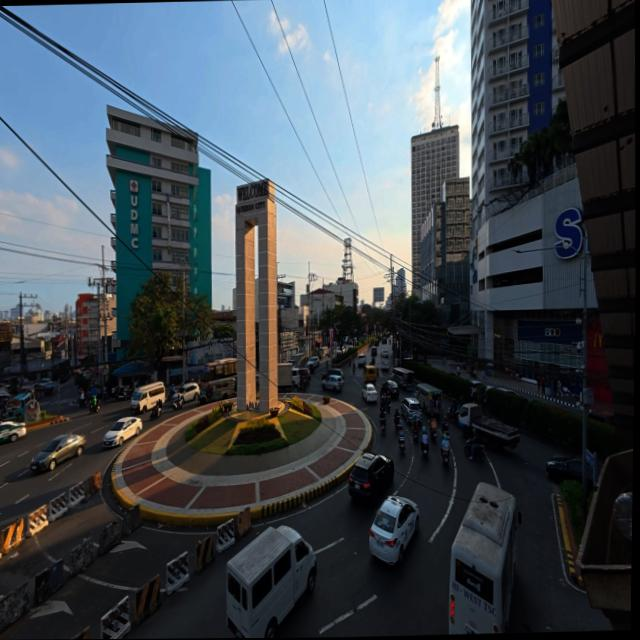car: (364, 495, 418, 567), (346, 452, 396, 509), (30, 432, 89, 473), (102, 415, 143, 450), (320, 368, 345, 392), (363, 383, 379, 402)
vans: (227, 520, 322, 638)
